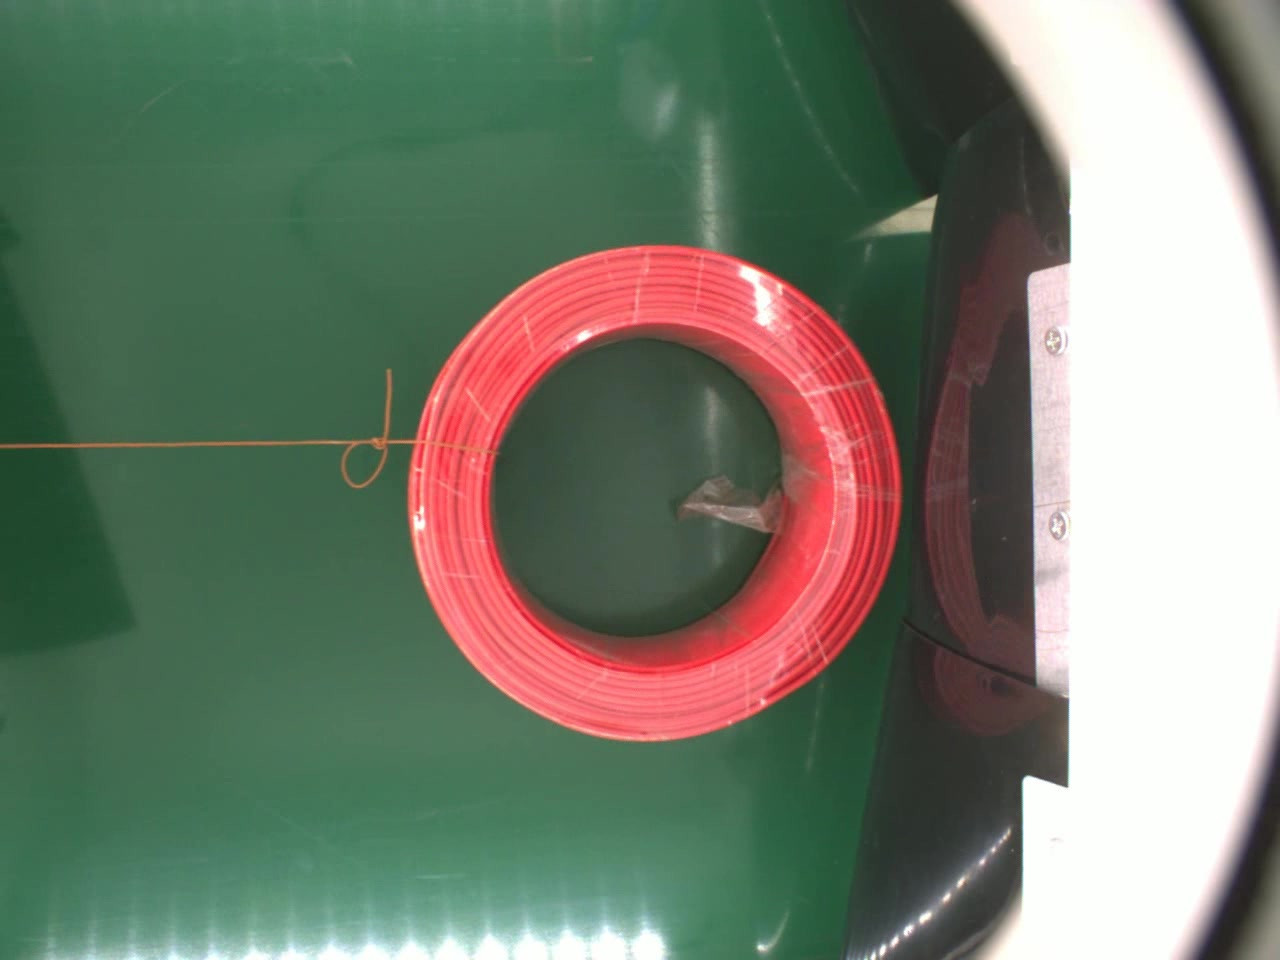red: (402, 240, 900, 746)
